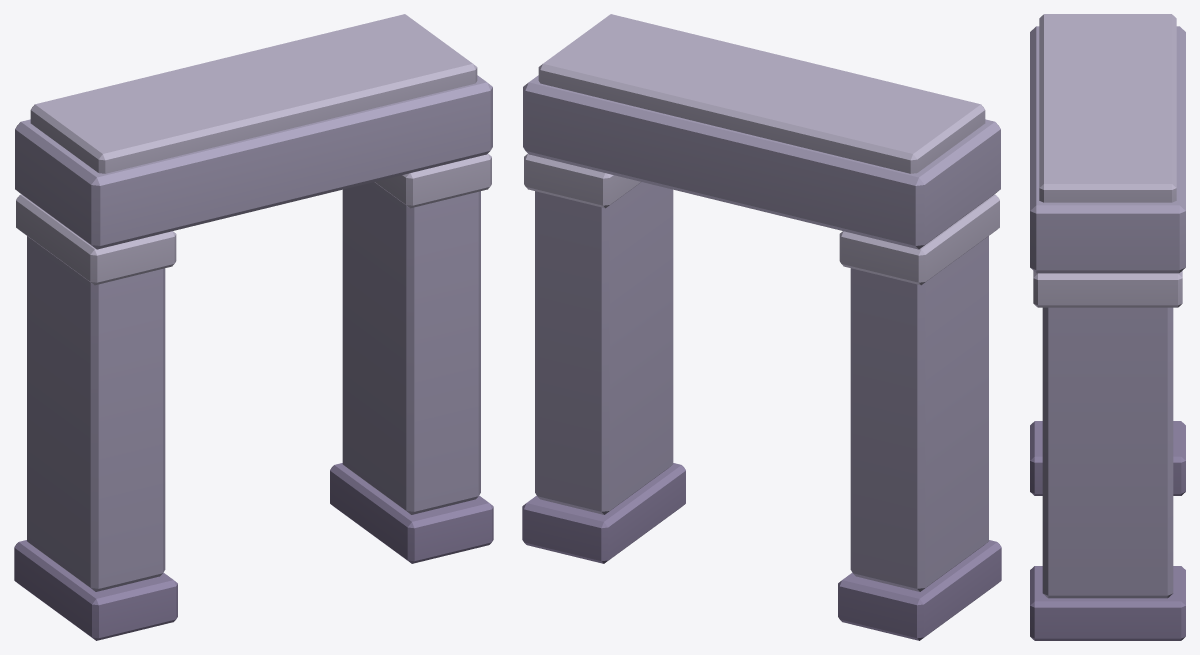
File: memory-gate.glb
3 renders of one model, left to right at view 1: azimuth 30°, elevation 25°; view 2: azimuth 150°, elevation 25°; view 3: azimuth 270°, elevation 25°, orthographic. The views are drawn at different scales.
Parts seen in each view (by area): view 1: memory-gate; view 2: memory-gate; view 3: memory-gate.
Part boxes in pixels (<box>): memory-gate: <box>14,14,493,640</box>; memory-gate: <box>522,14,1001,640</box>; memory-gate: <box>1030,14,1185,640</box>.
Bounding box in the file's own units: 1.4 × 1.6 × 0.5.
